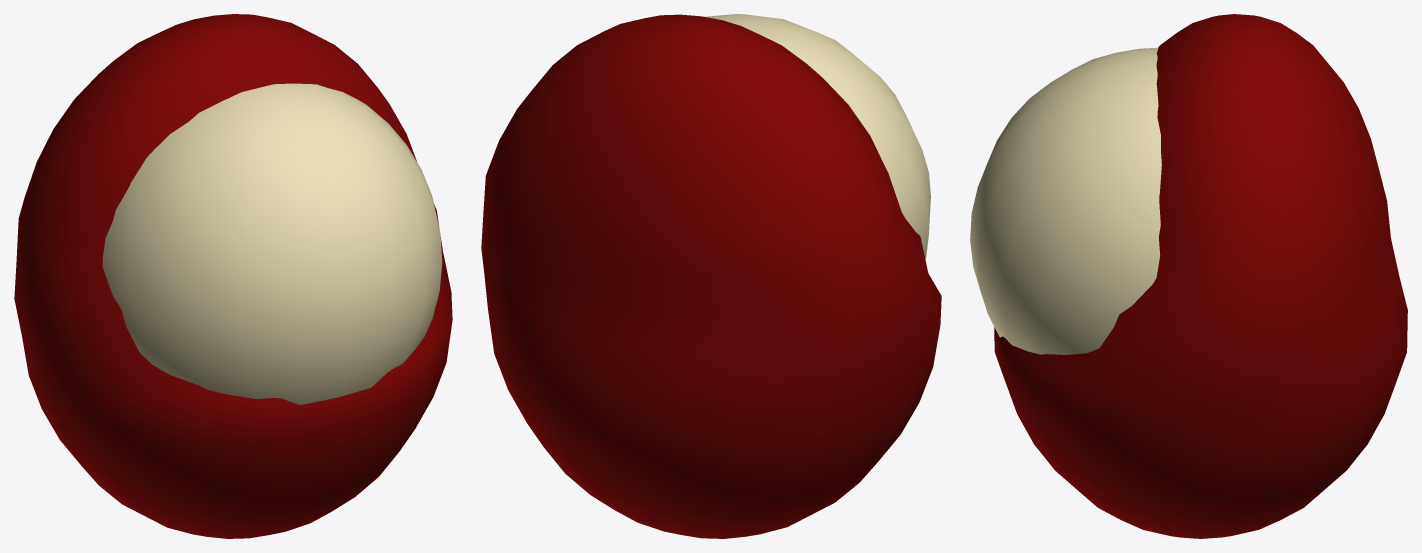
The model's file is Womb.fbx.
3 renders of one model, left to right at view 1: azimuth 30°, elevation 25°; view 2: azimuth 150°, elevation 25°; view 3: azimuth 270°, elevation 25°, orthographic. The views are drawn at different scales.
Visible parts, largest first — view 1: pSphere1, pSphere2; view 2: pSphere1, pSphere2; view 3: pSphere1, pSphere2.
Boxes of the visible parts, <box> form: pSphere1: <box>14,14,452,538</box>; pSphere2: <box>102,83,442,404</box>; pSphere1: <box>481,14,941,538</box>; pSphere2: <box>704,14,930,259</box>; pSphere1: <box>994,14,1407,538</box>; pSphere2: <box>970,47,1161,354</box>.
Bounding box in the file's own units: 2 × 2.37 × 1.92.
